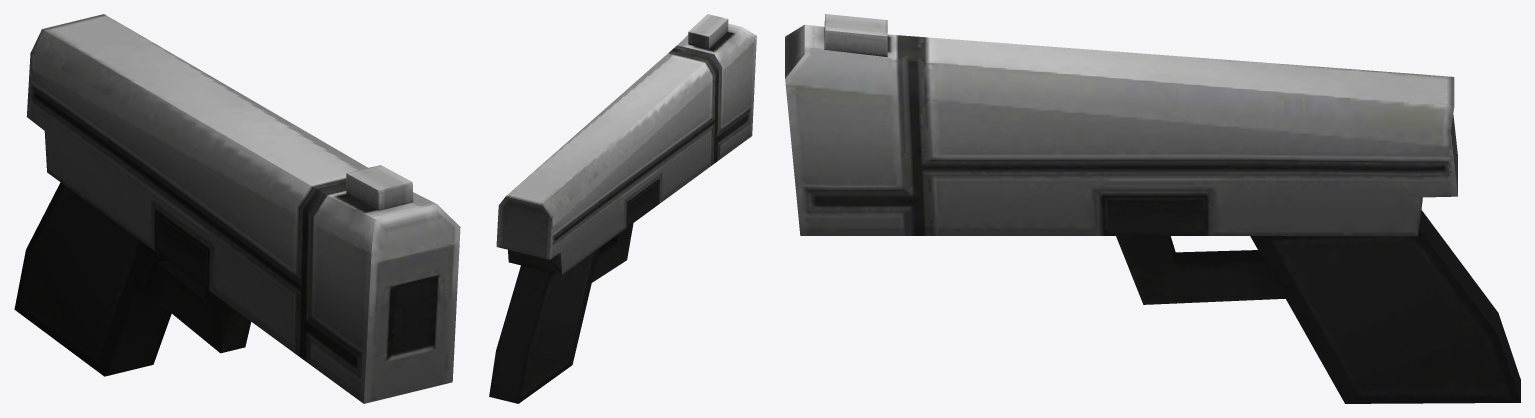
File: USP45_544acb6c__usp45_2d07bf97_c1f257.obj
3 views of the same model, side by side, from view 1: azimuth 30°, elevation 25°; view 2: azimuth 150°, elevation 25°; view 3: azimuth 270°, elevation 25° (orthographic). The views are drawn at different scales.
Size of the model in its own units: 0.0816 by 0.3331 by 0.6001.
Materials: 1 (1 with a texture image).
